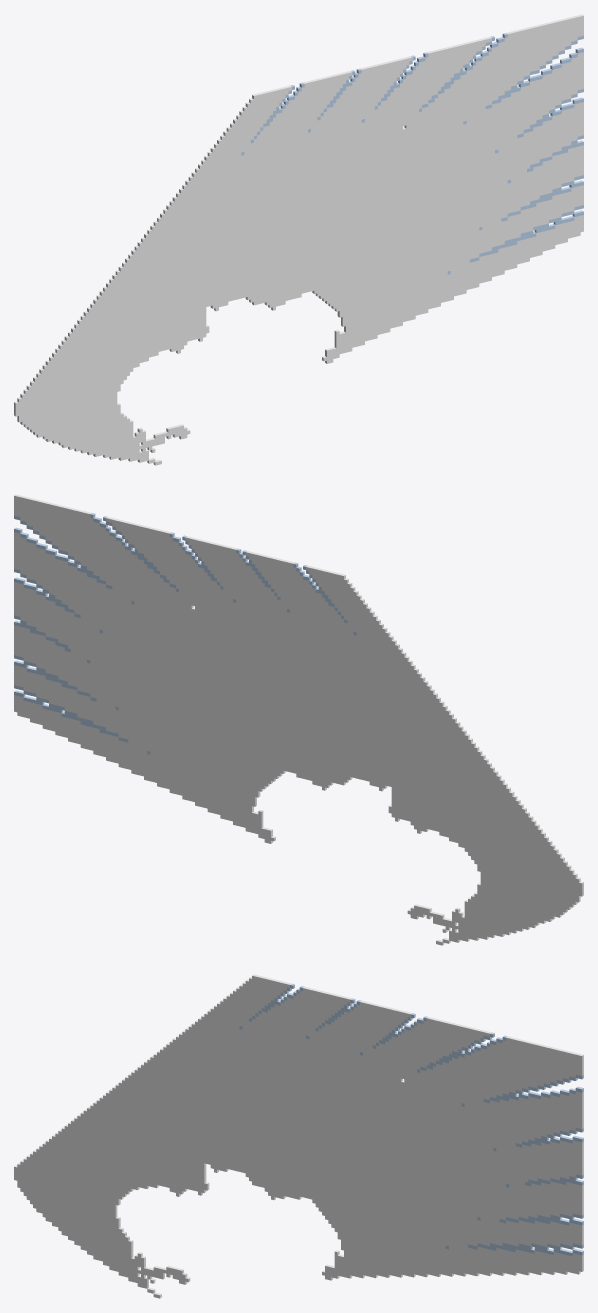
Rendered from Fight_029_3_09_fx.obj.
The picture shows the model from 3 angles, top to bottom: view 1: azimuth 30°, elevation 25°; view 2: azimuth 150°, elevation 25°; view 3: azimuth 330°, elevation 25°; orthographic projection.
Bounding box in the file's own units: 17.9 × 10.4 × 0.1.
Materials: 1 (1 with a texture image).
